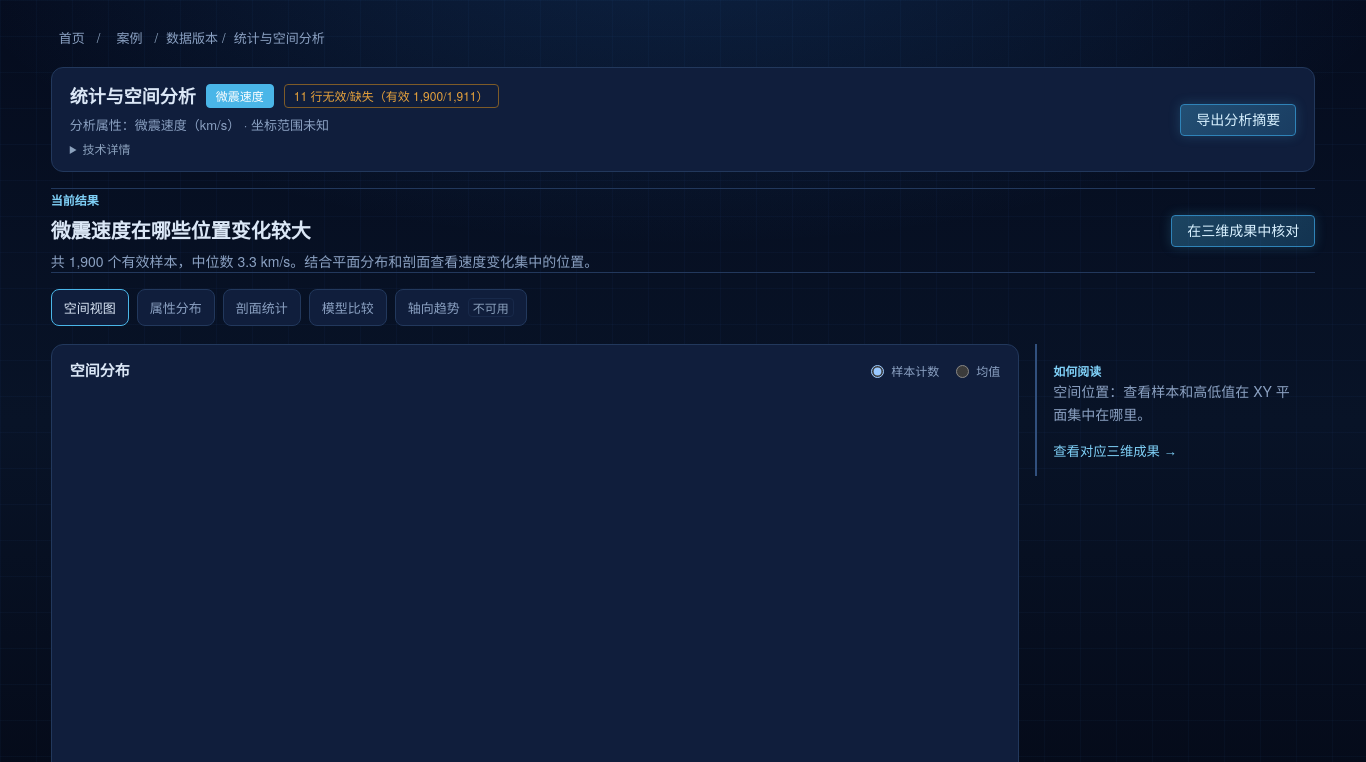
Test: AnalysisCenterView（A+B 壳） › profile 专属模块 disabled：导航标记不可用，选中后显示解释而非空图
Click the button with test id "module-nav-item-axis_trends": (461, 308) [395,289,527,326]
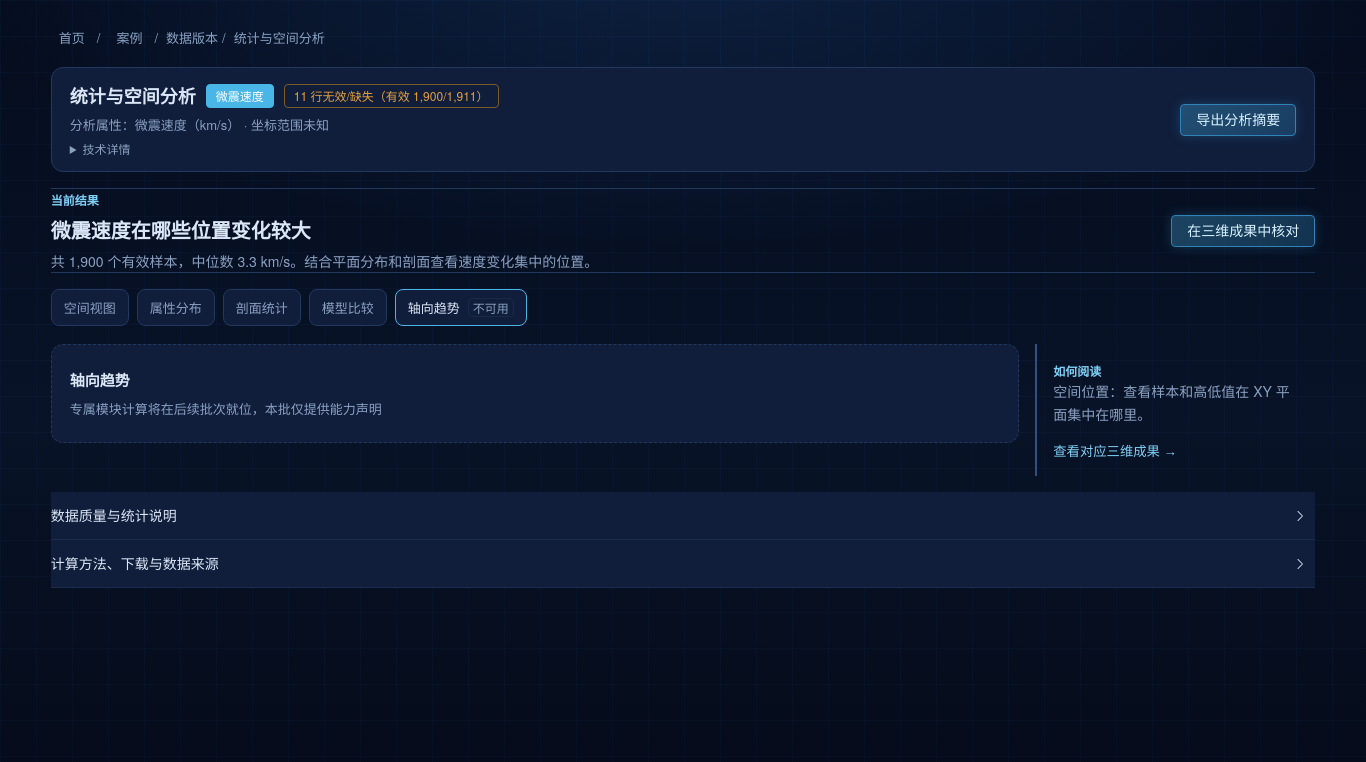
Now the element with test id "module-disabled-state" is shown, box [51,344,1019,443]
Now the element with test id "module-disabled-state" shows "专属模块计算将在后续批次就位", box [70,399,382,418]
